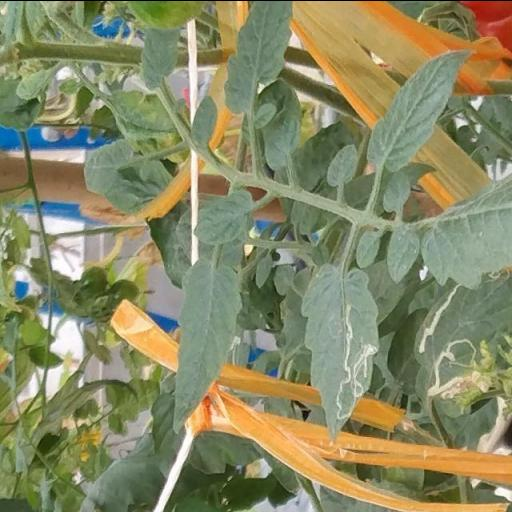Healthy: (363, 46, 473, 172), (169, 254, 244, 436), (192, 185, 258, 245)
Leaf Miner: (298, 259, 384, 447), (409, 270, 485, 422)
